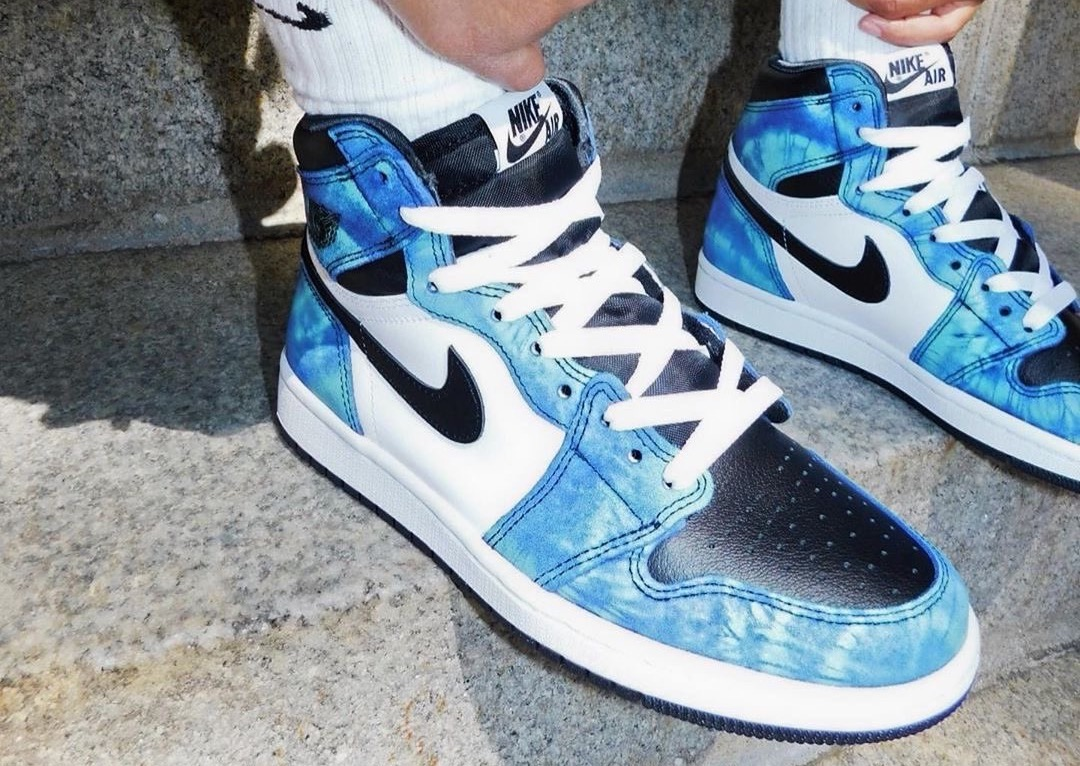Jordan 1: (263, 74, 989, 754)
